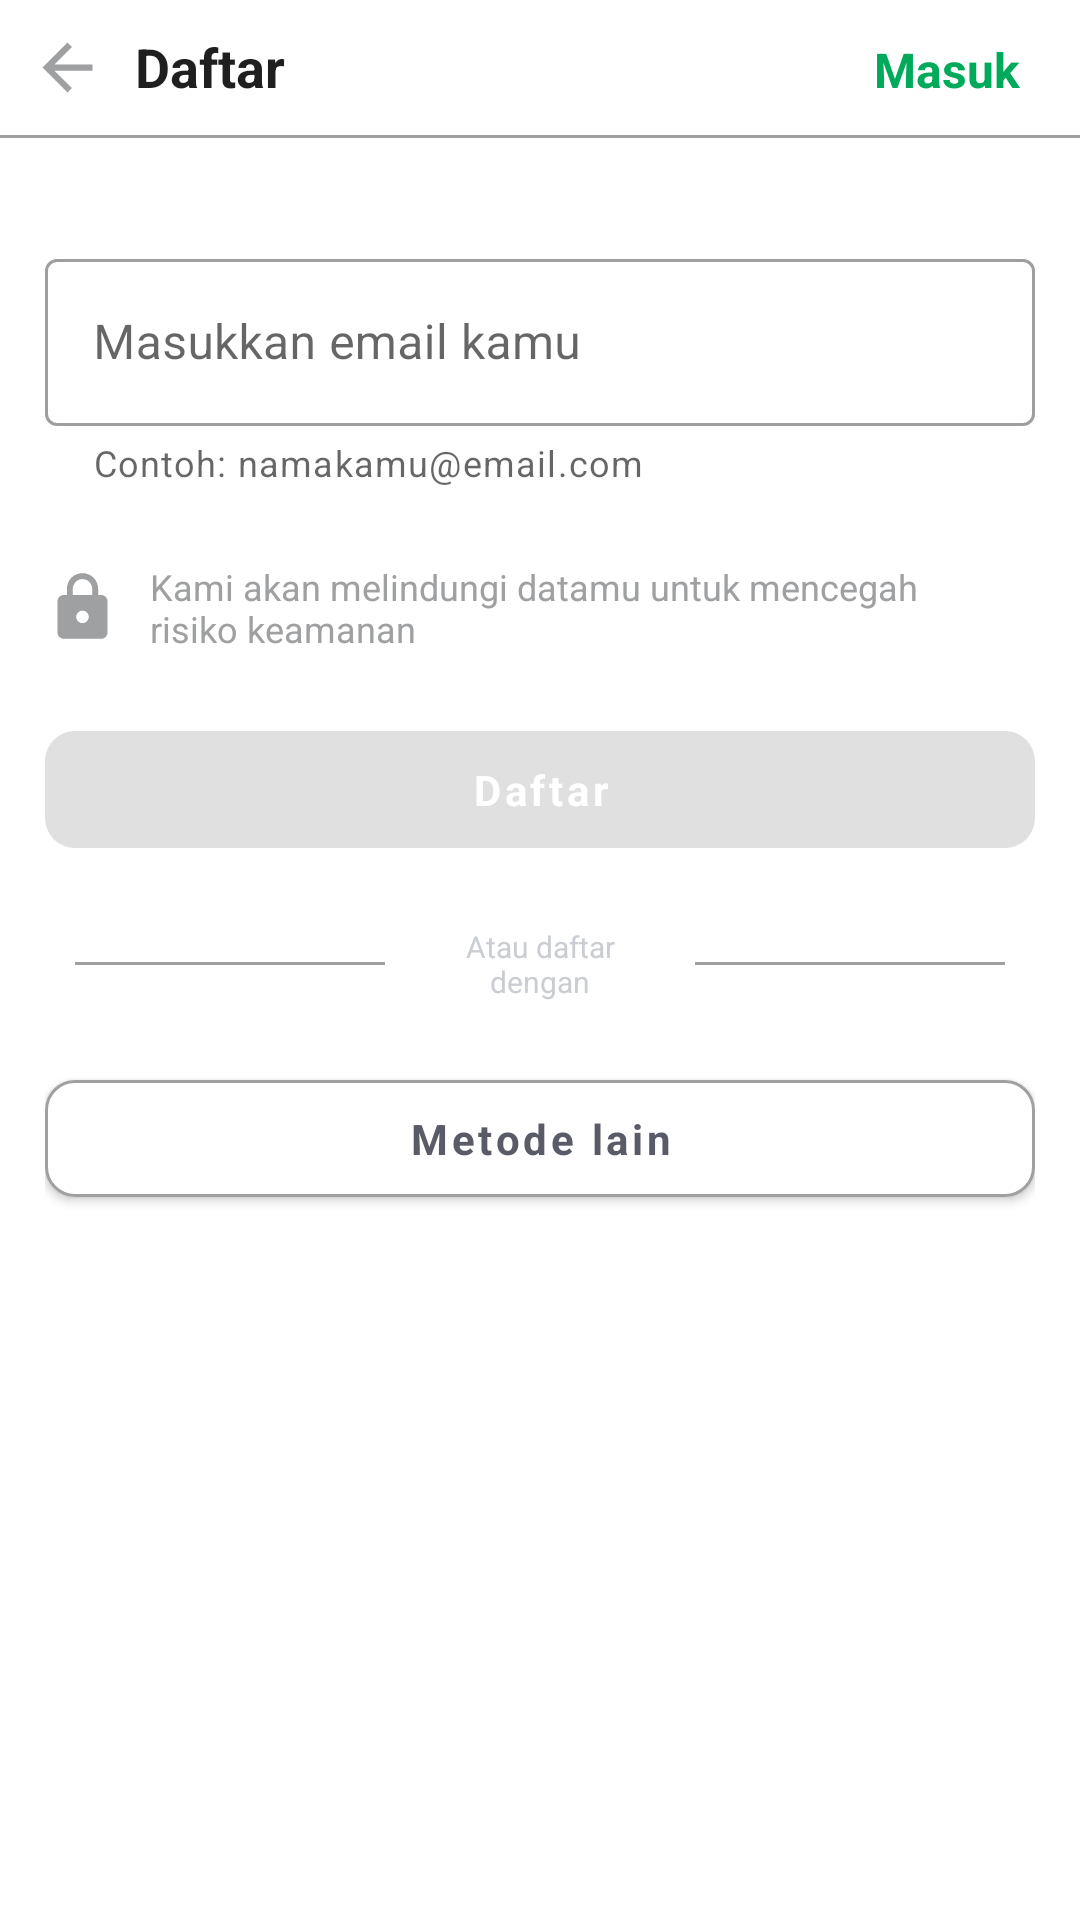

Point at icon controls on the screen. Image size 1080 x 1920, points as (x=x, y=y).
back: (x=68, y=67)
lock: (x=82, y=606)
